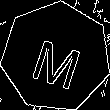M_N: (26, 26, 86, 88)
